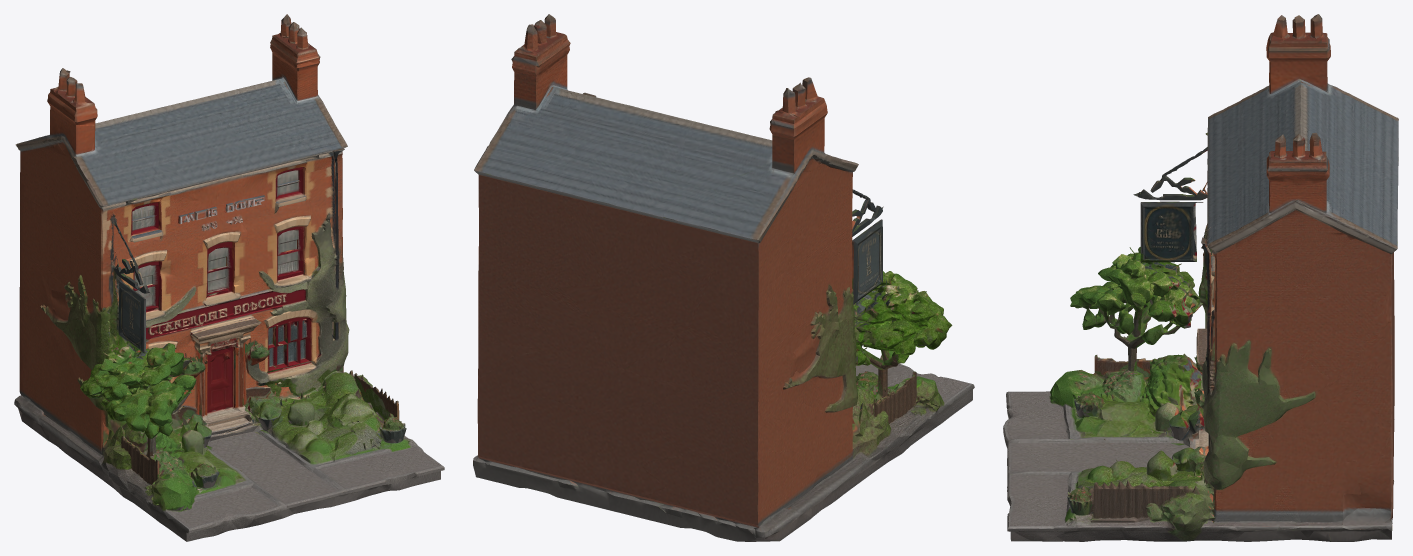
File: building_pub.glb
The picture shows the model from 3 angles, left to right: view 1: azimuth 30°, elevation 25°; view 2: azimuth 150°, elevation 25°; view 3: azimuth 270°, elevation 25°; orthographic projection. The views are drawn at different scales.
Visible parts, largest first — view 1: output_unwrapped; view 2: output_unwrapped; view 3: output_unwrapped.
Part boxes in pixels (x1,y1,x2,y2): output_unwrapped: (14,14,444,541); output_unwrapped: (473,14,974,541); output_unwrapped: (1003,14,1398,541).
Bounding box in the file's own units: 1.77 × 2 × 1.79.
Materials: 1 (1 with a texture image).
